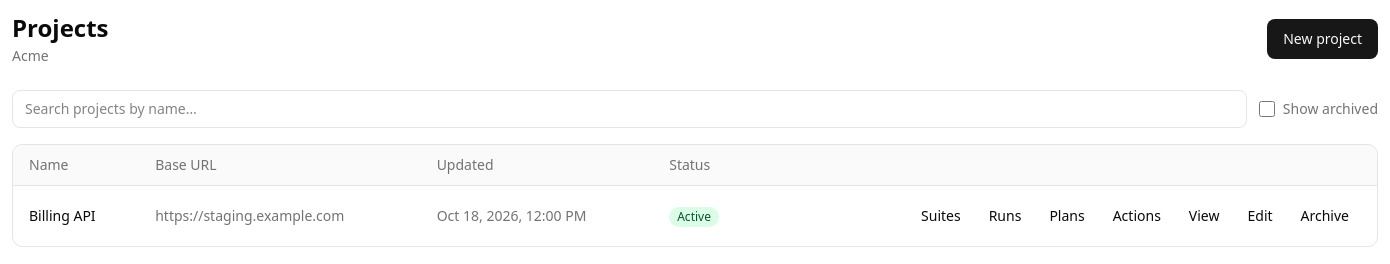
ProjectsManager › searches by name through the server action
This screenshot has width=1390, height=264.
expect the text "Billing API" is shown: met, box [13,186,139,246]
Type "bill" into the search field labelled "Search projects" at (629, 109), box [12,90,1247,128]
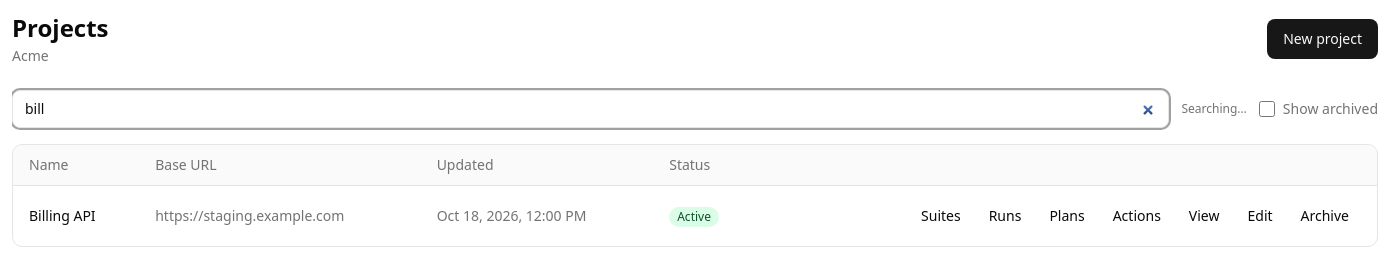
expect the text "Searching…" is shown: met, box [1182,101,1247,117]
